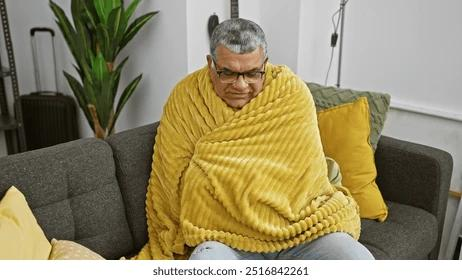blanket: (120, 63, 362, 260)
trousers: (187, 231, 376, 260)
